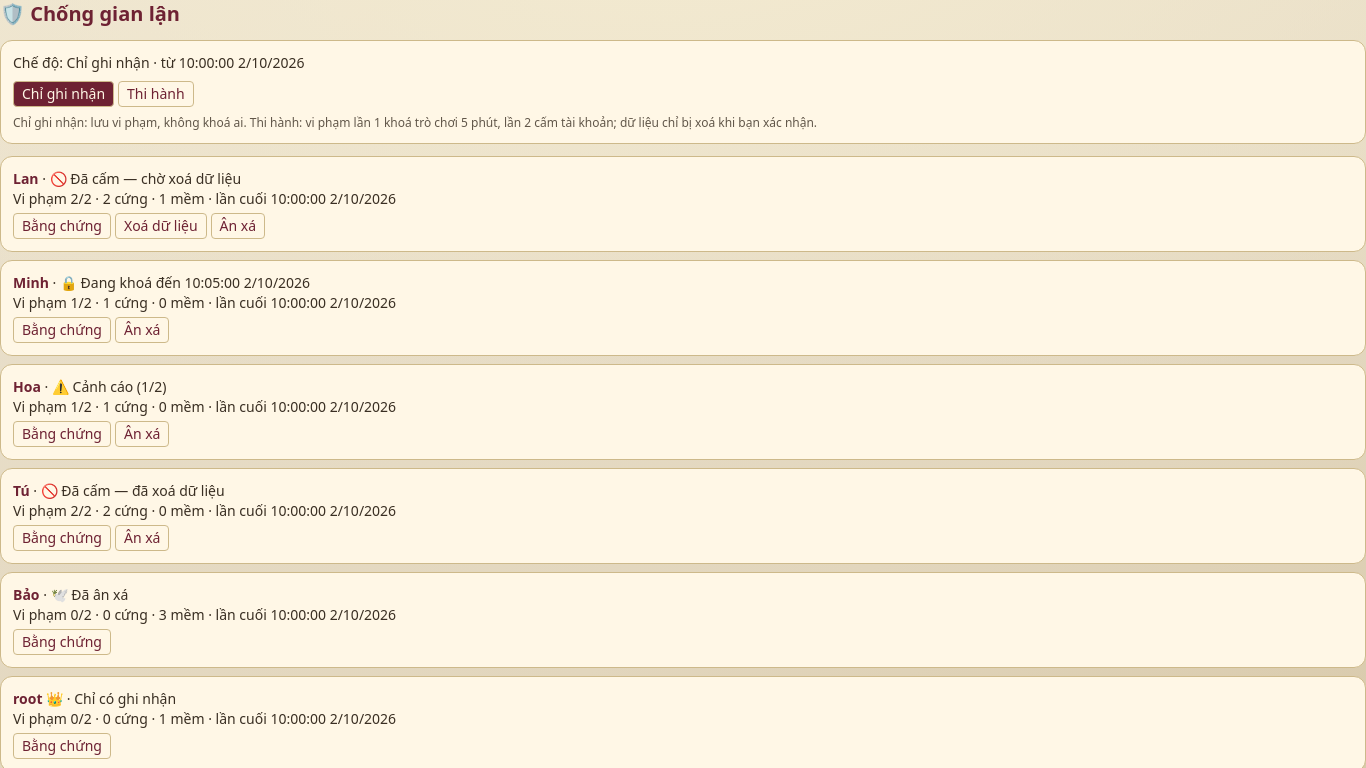
Scenario: AnticheatTab (anti-cheat spec §12.5) › opens and closes the evidence: holdings, events and wipes
This screenshot has width=1366, height=768.
Step 1. Click the button "Bằng chứng" below "Lan" → coordinates (62, 226), box [13, 213, 111, 239]
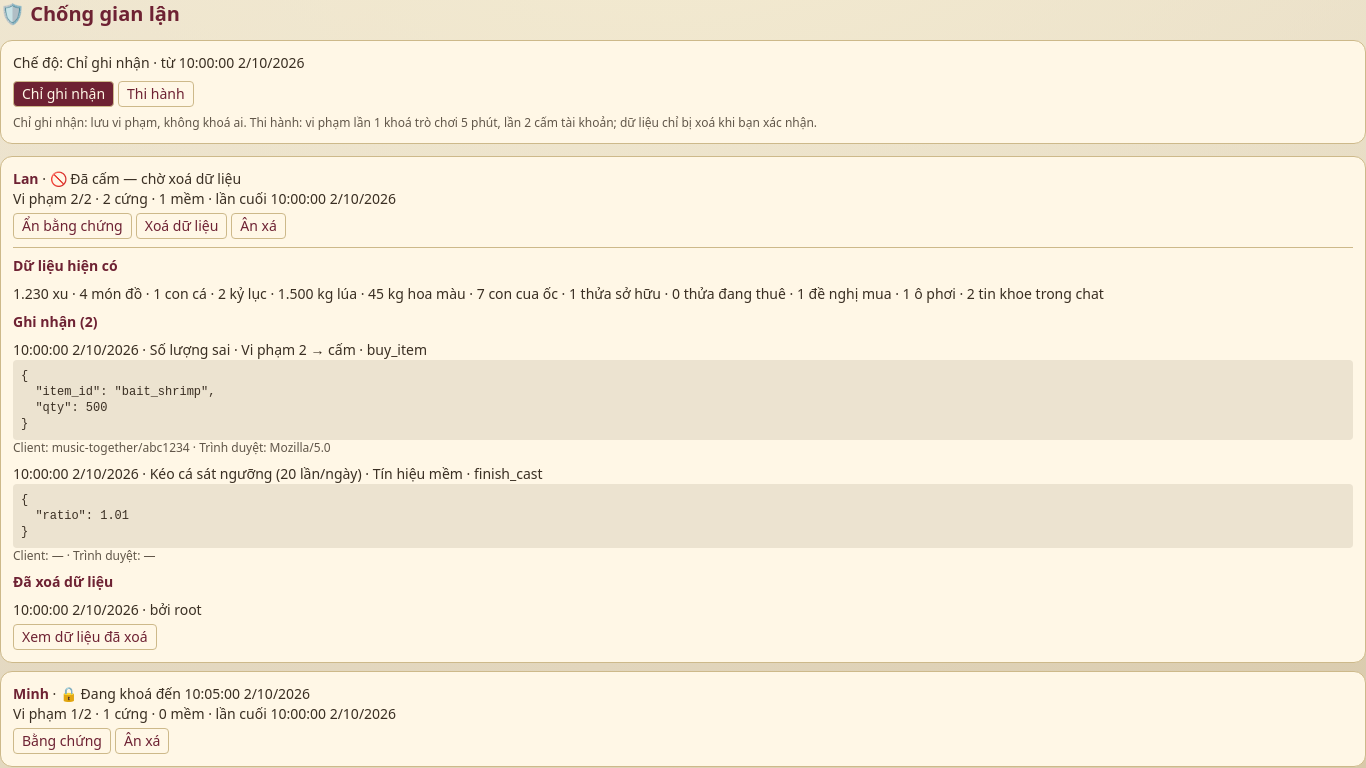
Now the heading "Dữ liệu hiện có" is shown, box [13, 256, 118, 275]
Now the button "Ẩn bằng chứng" is expanded, box [13, 213, 132, 239]
Now the text "1.230 xu · 4 món đồ · 1 con cá · 2 kỷ lục · 1.500 kg lúa · 45 kg hoa màu · 7 con cua ốc · 1 thửa sở hữu · 0 thửa đang th" is shown, box [13, 284, 1104, 303]
Step 2. Click the button "Xem dữ liệu đã xoá" → coordinates (85, 637), box [13, 624, 156, 650]
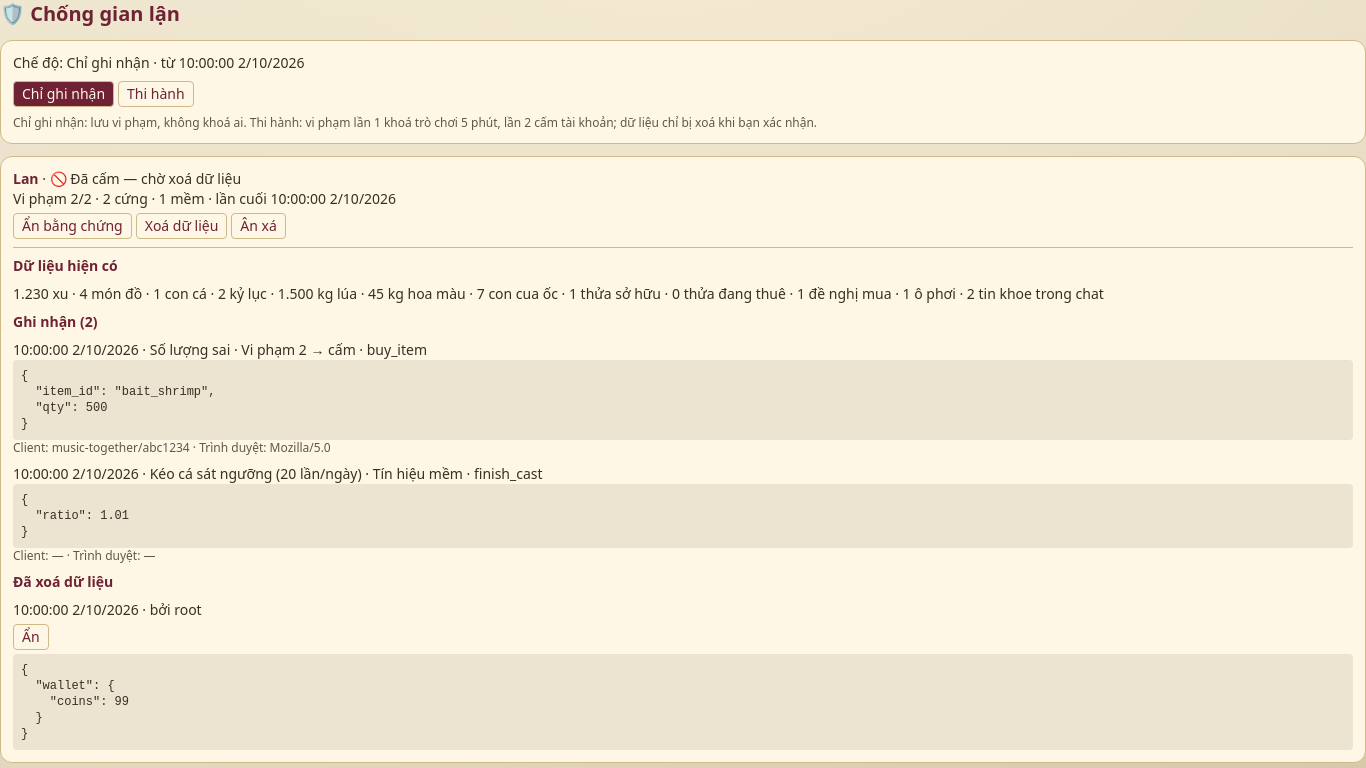
Step 3. Click the button "Ẩn" → coordinates (31, 637), box [13, 624, 49, 650]
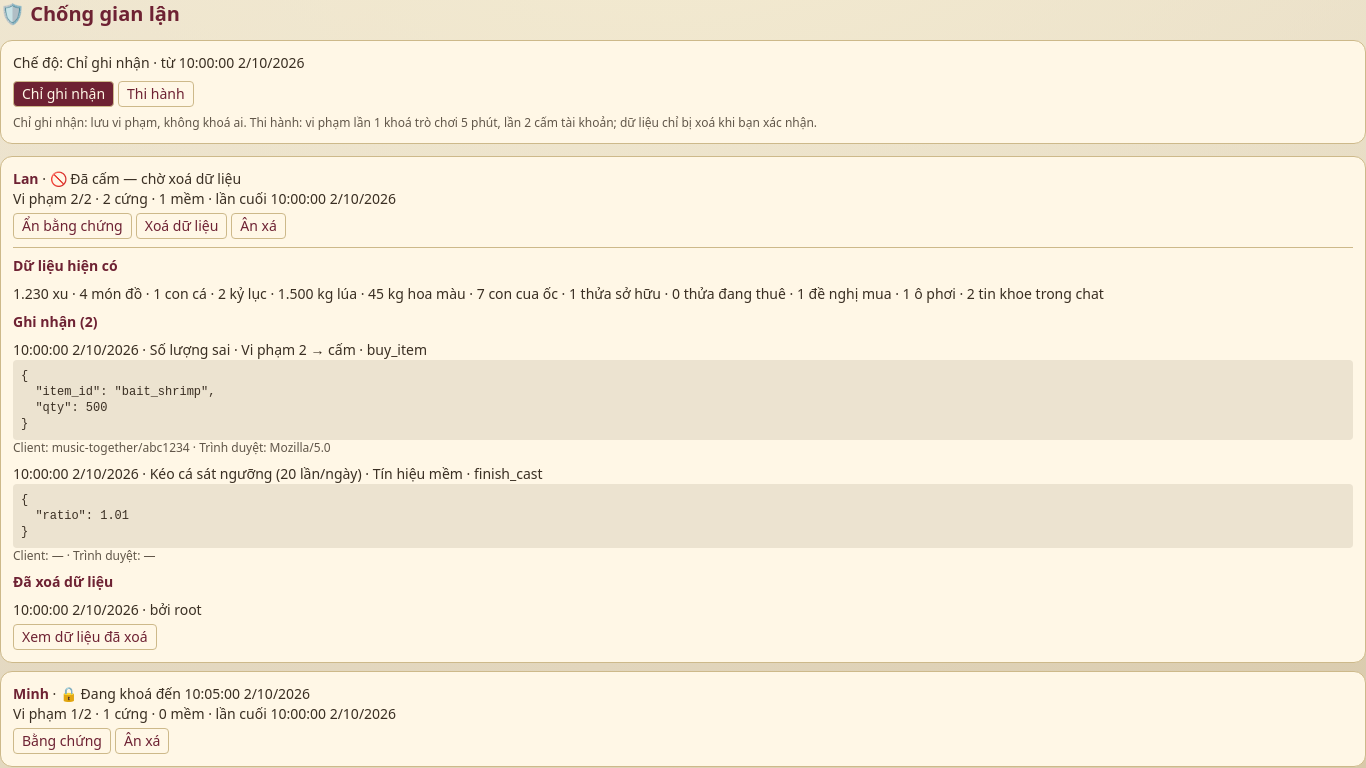
Step 4. Click the button "Ẩn bằng chứng" → coordinates (72, 226), box [13, 213, 132, 239]
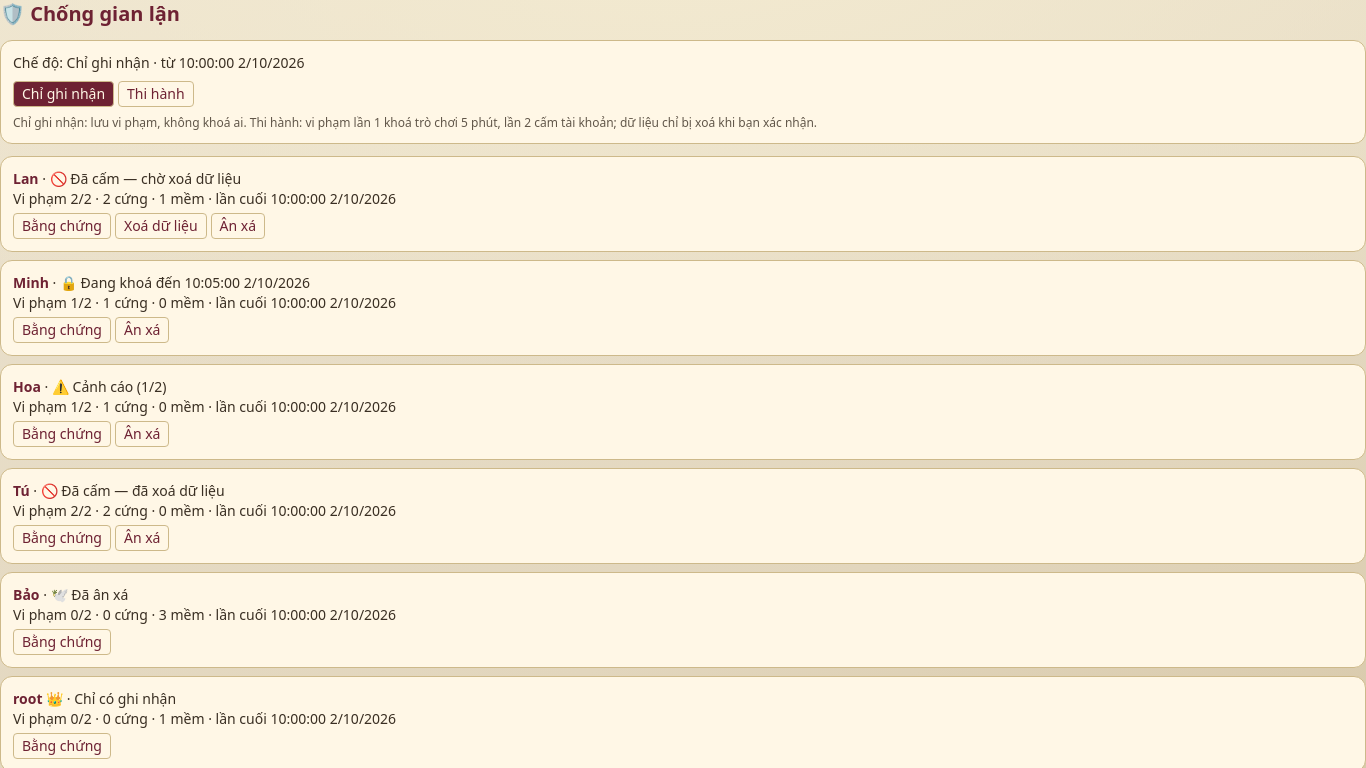
Expected: the button "Bằng chứng" below "Lan" is shown, [13, 213, 111, 239]
Now the heading "Dữ liệu hiện có" is gone
